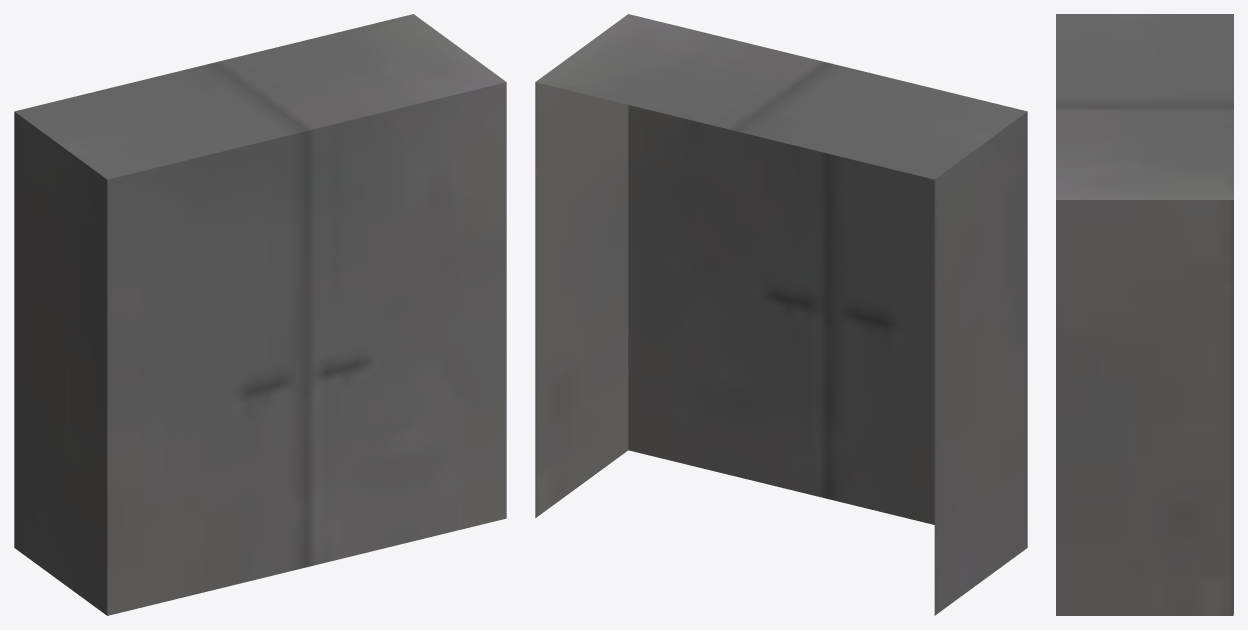
Rendered from office-cupboard--2.gltf.
3 views of the same model, side by side, from view 1: azimuth 30°, elevation 25°; view 2: azimuth 150°, elevation 25°; view 3: azimuth 270°, elevation 25° (orthographic). The views are drawn at different scales.
Visible parts, largest first — view 1: Closed_cabinet_medium; view 2: Closed_cabinet_medium; view 3: Closed_cabinet_medium.
Boxes of the visible parts, box(x1,y1,x2,y2) form: Closed_cabinet_medium: box(14, 14, 506, 615); Closed_cabinet_medium: box(535, 14, 1027, 615); Closed_cabinet_medium: box(1056, 14, 1233, 615).
Size of the model in its own units: 1.1 by 1.15 by 0.4444.
Materials: 1 (1 with a texture image).
